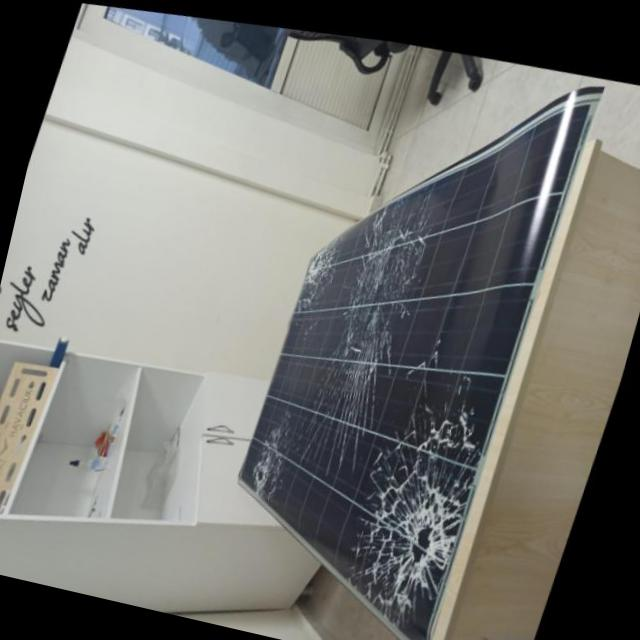faulty: (237, 108, 586, 627)
